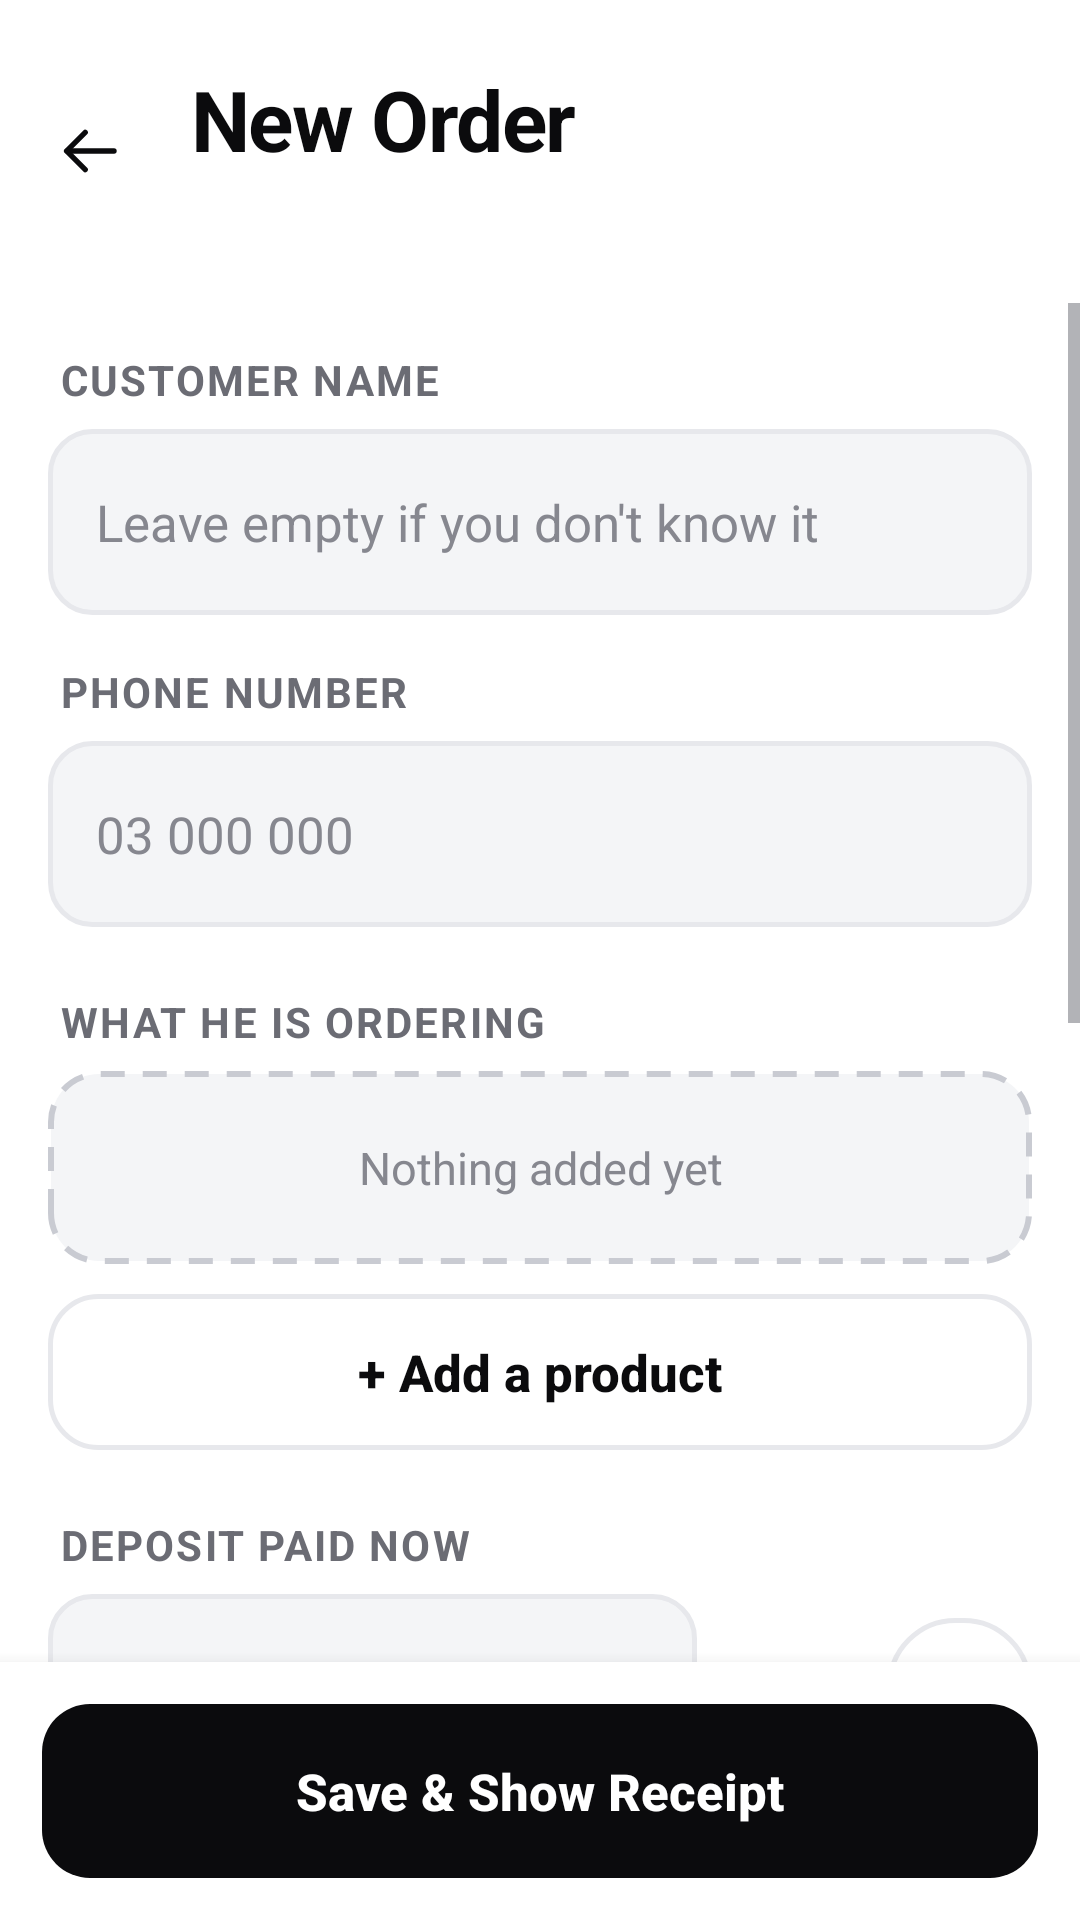

Icon click points for this 1080px×1920px phone screenshot, format (x=x, y=y):
back: (x=90, y=151)
